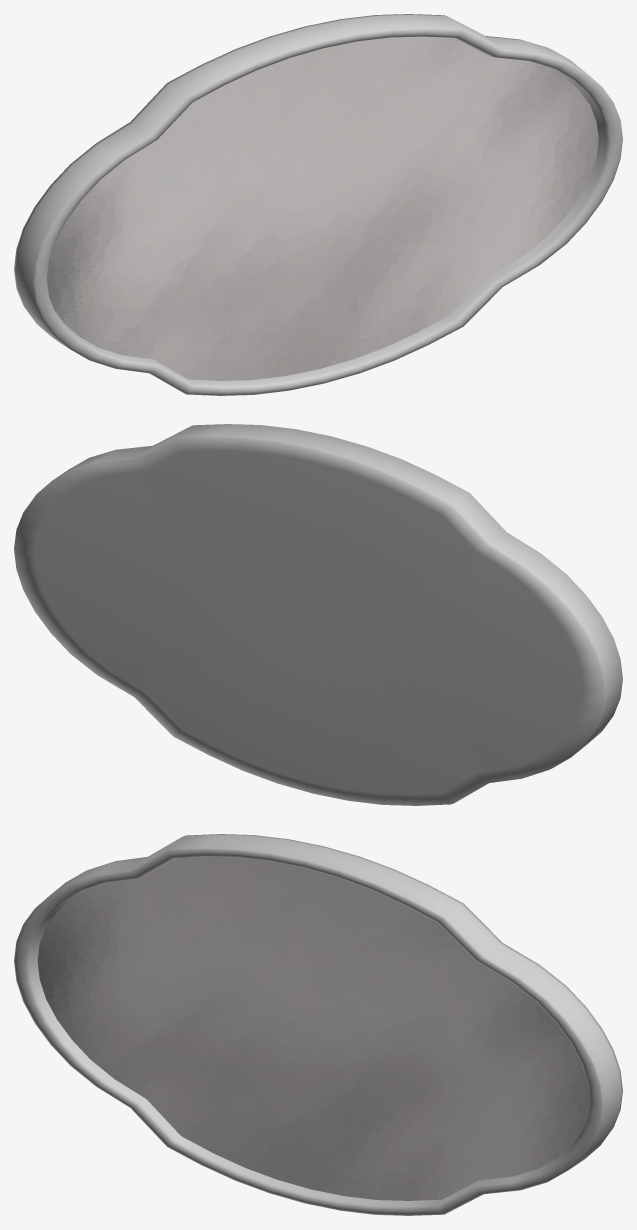
Rendered from Mirror.FBX.
3 renders of one model, top to bottom at view 1: azimuth 30°, elevation 25°; view 2: azimuth 150°, elevation 25°; view 3: azimuth 330°, elevation 25°, orthographic.
Parts seen in each view (by area): view 1: Mirror; view 2: Mirror; view 3: Mirror.
Part boxes in pixels (x1=…): Mirror: x1=14, y1=14, x2=622, y2=395; Mirror: x1=14, y1=424, x2=622, y2=805; Mirror: x1=14, y1=834, x2=622, y2=1215.
Bounding box in the file's own units: 76 × 4.68 × 42.37.
